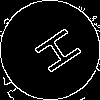H: (25, 25, 83, 81)
